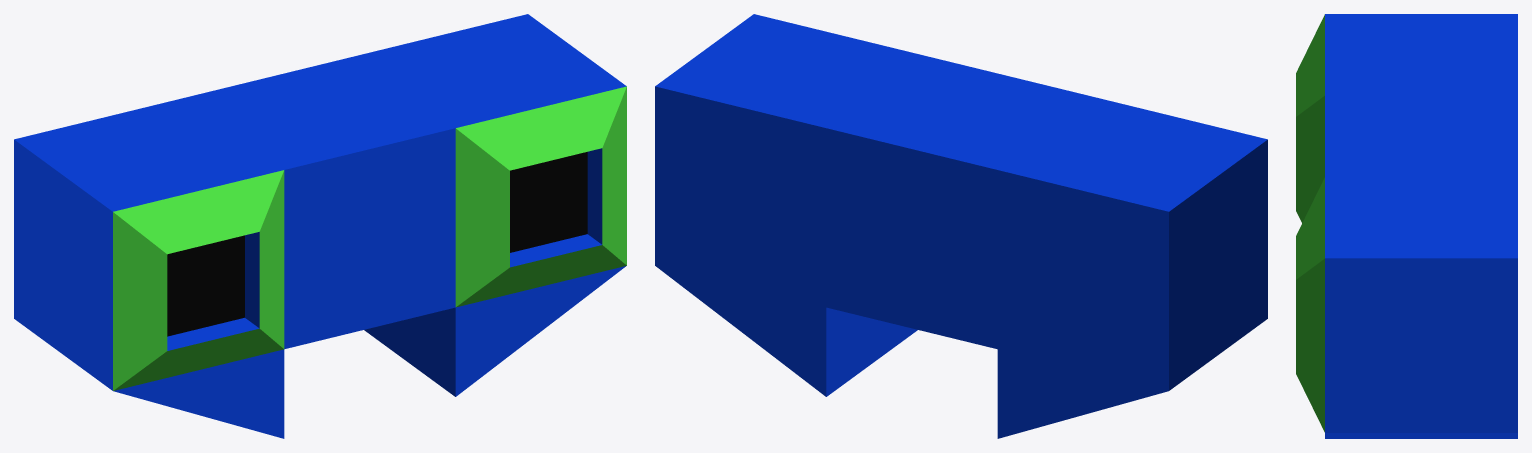
File: baseObstacle.fbx
3 renders of one model, left to right at view 1: azimuth 30°, elevation 25°; view 2: azimuth 150°, elevation 25°; view 3: azimuth 270°, elevation 25°, orthographic. The views are drawn at different scales.
Visible parts, largest first — view 1: EyeBrow; view 2: EyeBrow; view 3: EyeBrow.
Part boxes in pixels (<box>): EyeBrow: <box>14,14,626,438</box>; EyeBrow: <box>655,14,1267,438</box>; EyeBrow: <box>1296,14,1517,438</box>.
Size of the model in its own units: 6 by 3 by 2.3.
